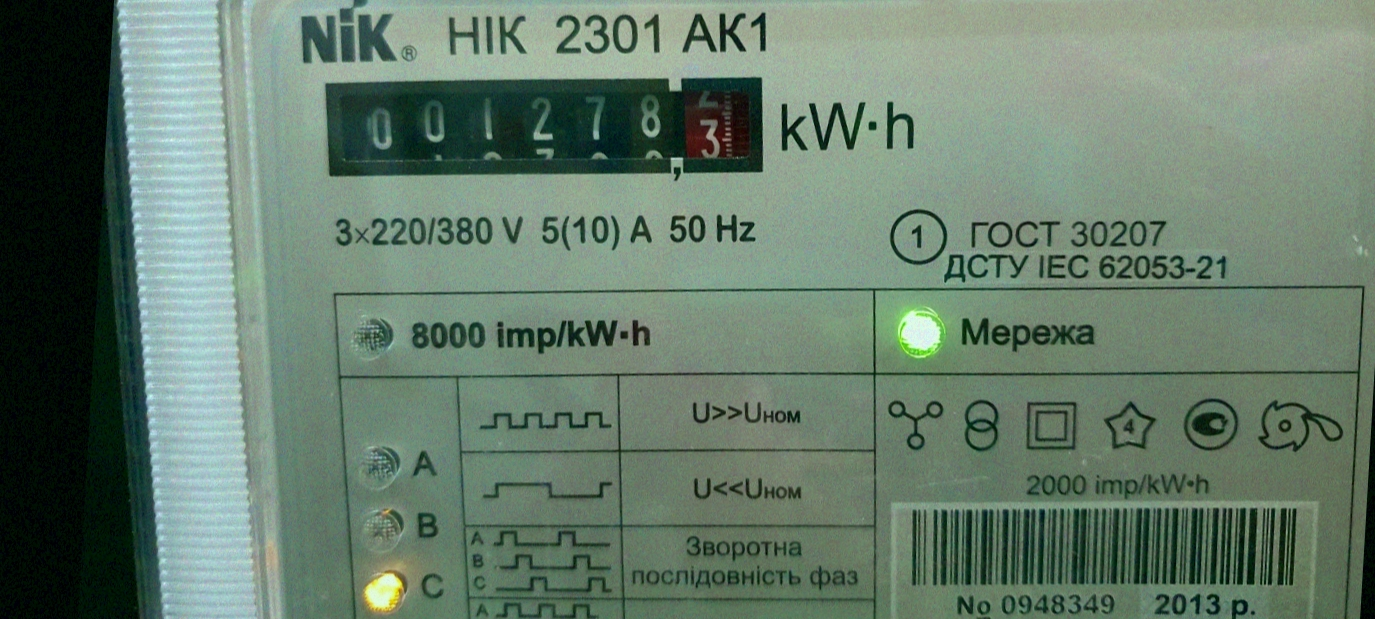0: (366, 102, 397, 151), (419, 96, 447, 143)
1: (478, 93, 497, 142)
2: (526, 93, 555, 141), (693, 87, 720, 110)
3: (694, 112, 723, 158)
7: (581, 91, 606, 141)
8: (635, 90, 663, 139)
screen: (299, 39, 784, 210)
